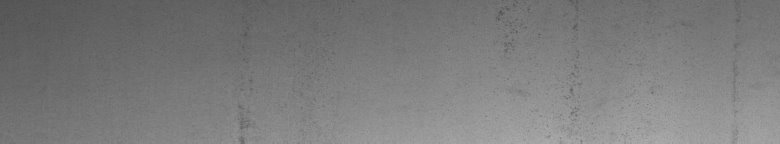ib: (496, 6, 584, 118)
